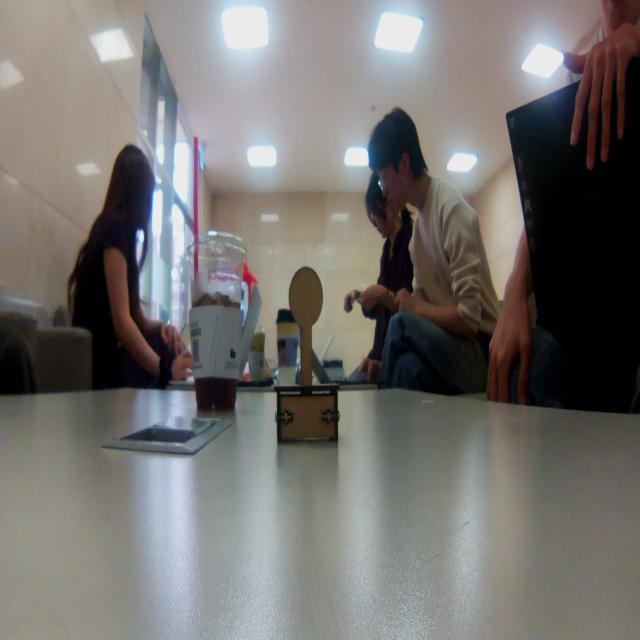target: (274, 265, 341, 448)
